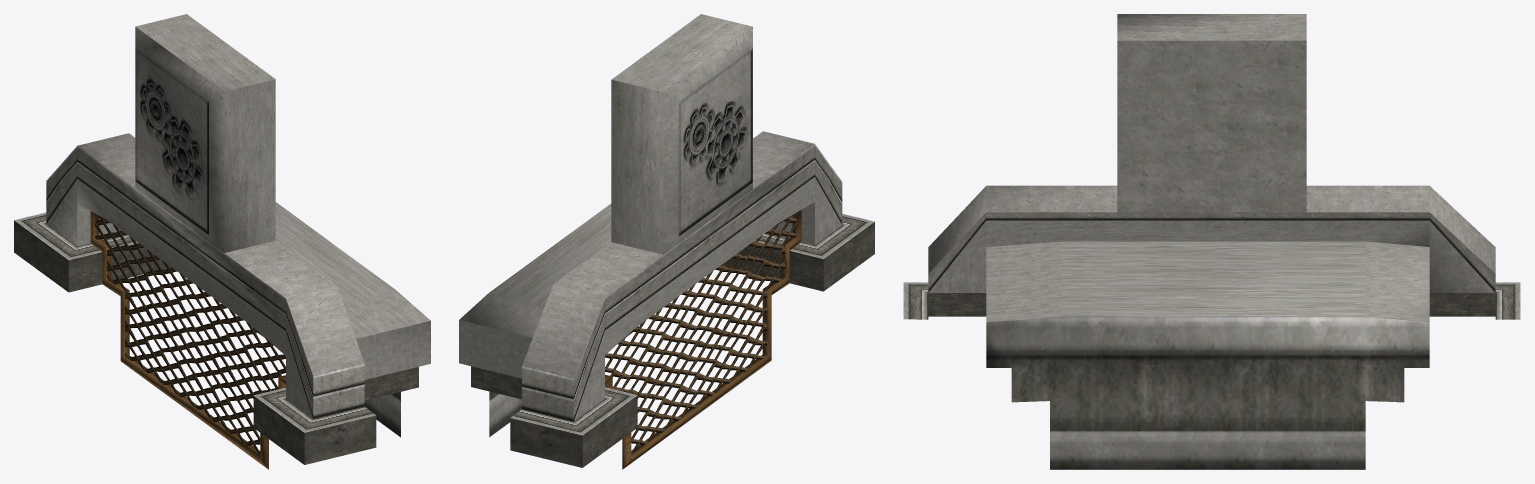
File: WATERROOM_CANAL_GEARS_WATERROOM_CANAL_GEARS.fbx
3 views of the same model, side by side, from view 1: azimuth 30°, elevation 25°; view 2: azimuth 150°, elevation 25°; view 3: azimuth 270°, elevation 25° (orthographic). The views are drawn at different scales.
Parts seen in each view (by area): view 1: WATERROOM_CANAL_GEARS_WATERROOM_CANAL_GEARS; view 2: WATERROOM_CANAL_GEARS_WATERROOM_CANAL_GEARS; view 3: WATERROOM_CANAL_GEARS_WATERROOM_CANAL_GEARS.
Boxes of the visible parts, box(x1,y1,x2,y2) form: WATERROOM_CANAL_GEARS_WATERROOM_CANAL_GEARS: box(14, 14, 430, 469); WATERROOM_CANAL_GEARS_WATERROOM_CANAL_GEARS: box(459, 14, 874, 469); WATERROOM_CANAL_GEARS_WATERROOM_CANAL_GEARS: box(903, 14, 1520, 469).
Bounding box in the file's own units: 16097 × 33273 × 48907.
Materials: 7 (7 with a texture image).
